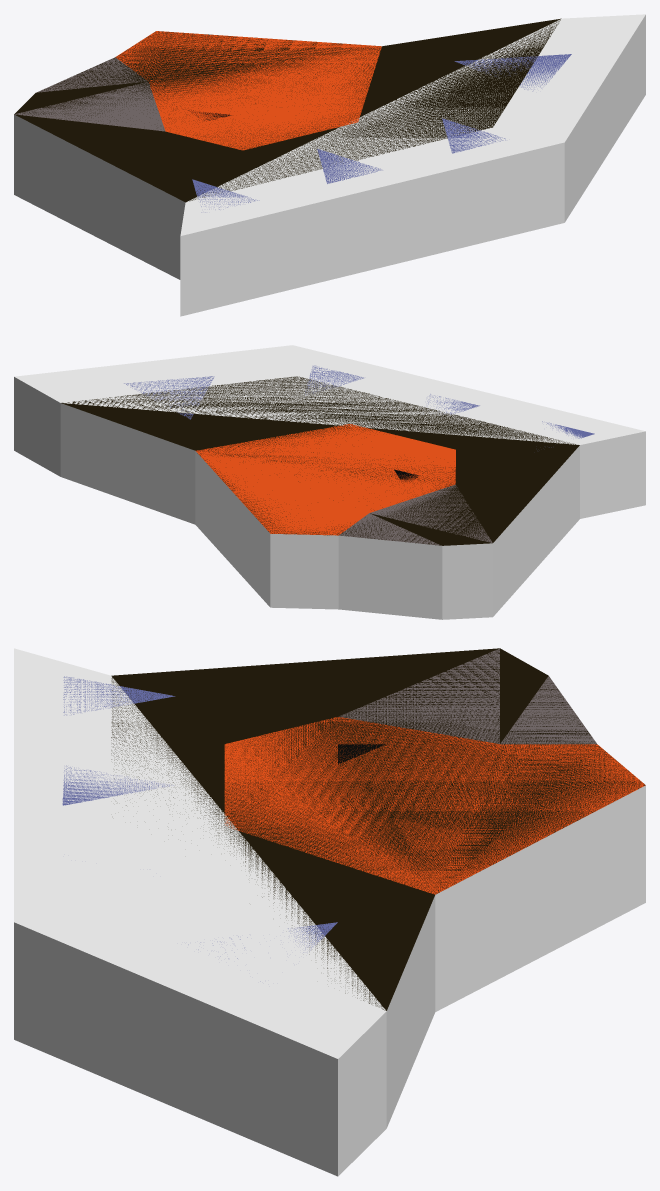
Rendered from inv_crest_part_1.obj.
The picture shows the model from 3 angles, top to bottom: view 1: azimuth 30°, elevation 25°; view 2: azimuth 150°, elevation 25°; view 3: azimuth 270°, elevation 25°; orthographic projection. The views are drawn at different scales.
Bounding box in the file's own units: 0.4688 × 0.0625 × 0.3047.
